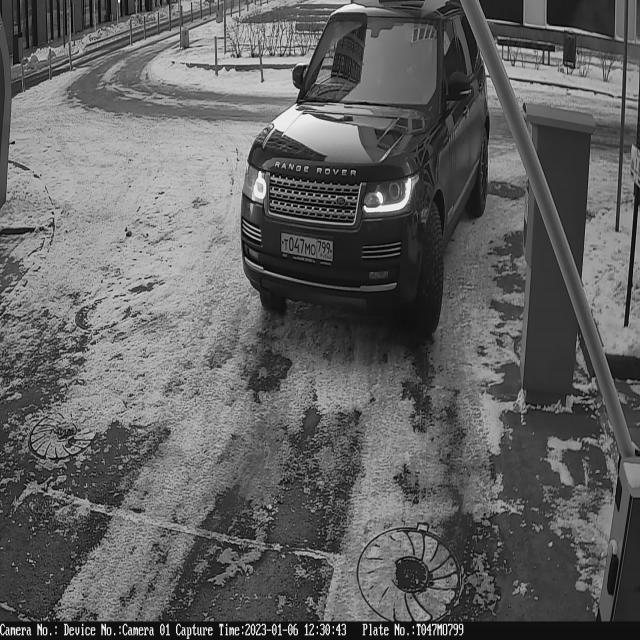car-plate-numbers: (280, 229, 336, 267)
